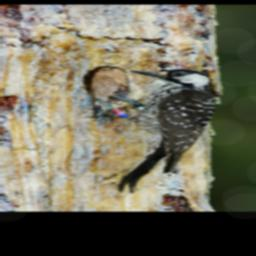Woodpecker: (95, 68, 219, 192)
